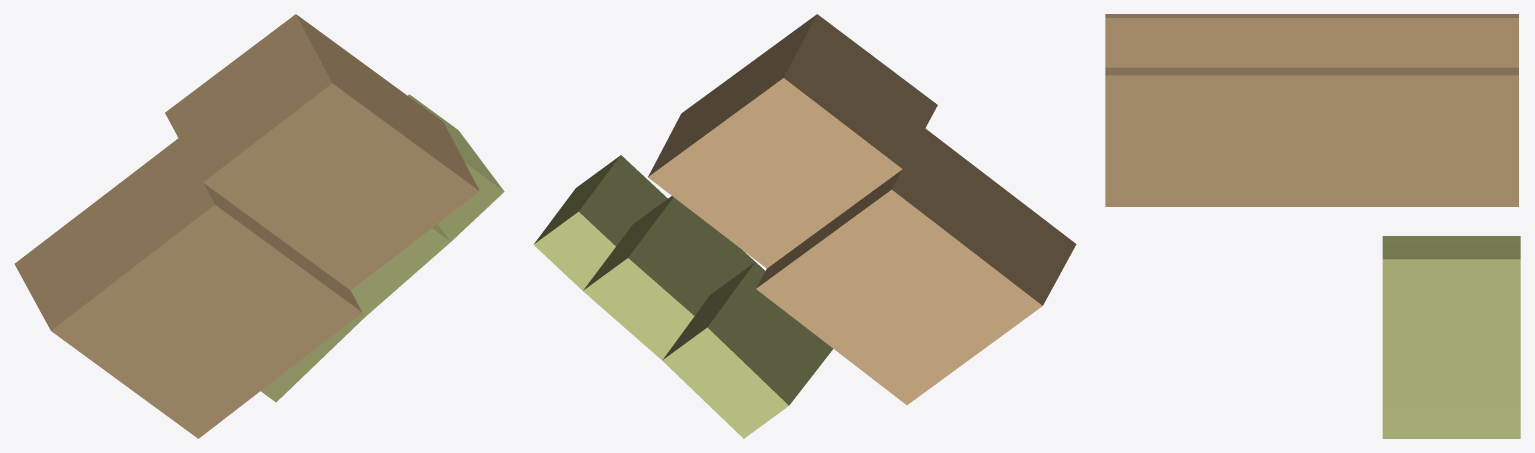
3 renders of one model, left to right at view 1: azimuth 30°, elevation 25°; view 2: azimuth 150°, elevation 25°; view 3: azimuth 270°, elevation 25°, orthographic. The views are drawn at different scales.
Visible parts, largest first — view 1: 0_0_1_1_2_1_2_3_2; view 2: 0_0_1_1_2_1_2_3_2; view 3: 0_0_1_1_2_1_2_3_2.
Boxes of the visible parts, x1,y1,x2,y2 form: 0_0_1_1_2_1_2_3_2: (14,14,504,438); 0_0_1_1_2_1_2_3_2: (533,14,1076,438); 0_0_1_1_2_1_2_3_2: (1105,14,1520,438).
Bounding box in the file's own units: 46.67 × 33.96 × 27.1.
